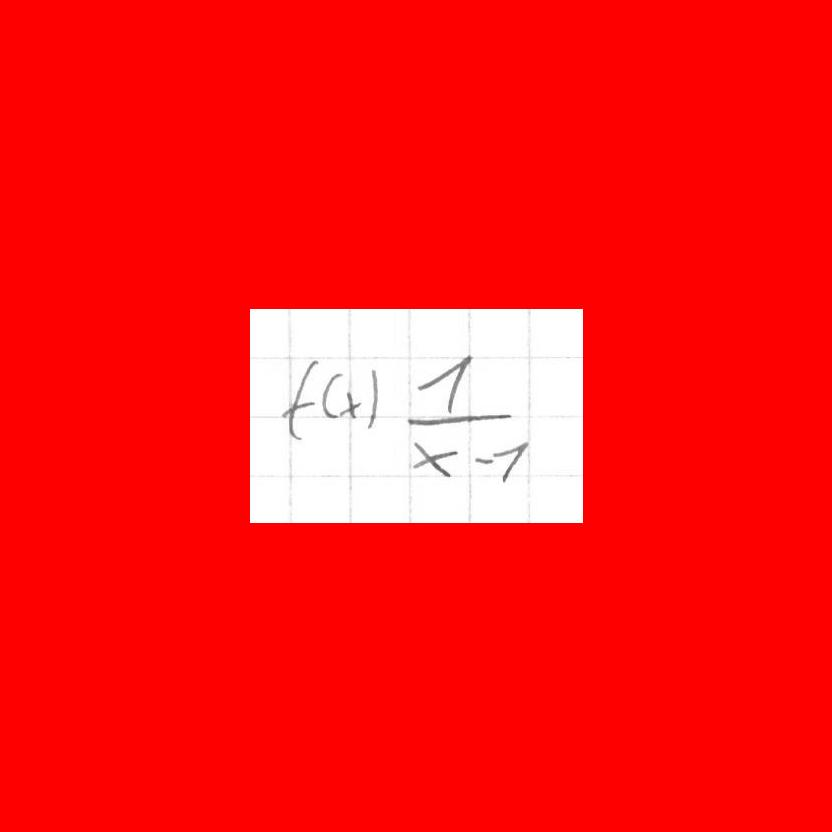Char: (416, 351, 474, 414), (281, 356, 319, 441), (410, 439, 459, 481), (401, 412, 514, 428), (492, 437, 530, 484), (365, 365, 383, 433), (320, 370, 342, 420), (339, 388, 362, 420), (472, 453, 496, 468)
